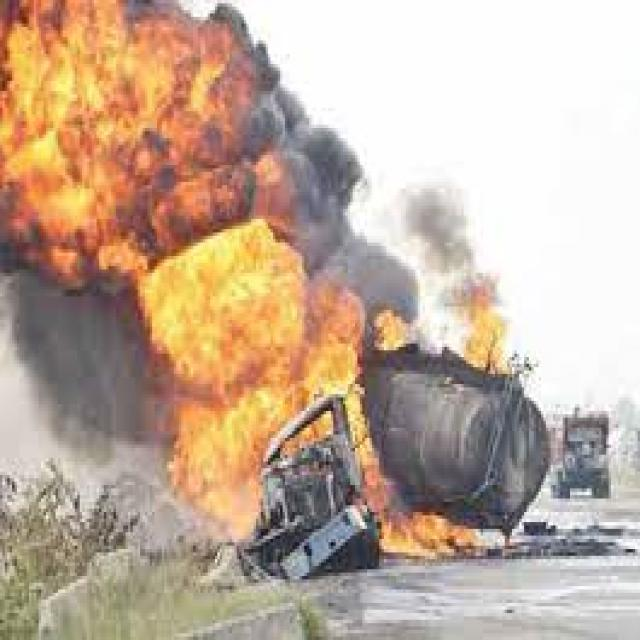fire: (2, 4, 520, 552)
